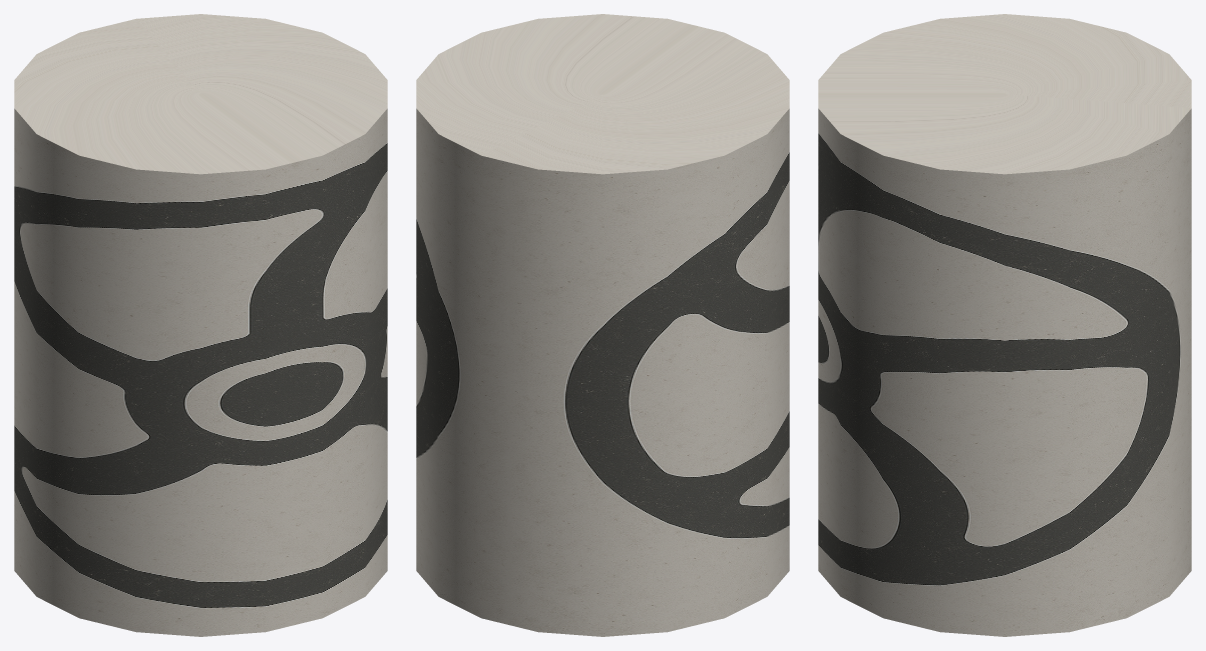
The model's file is kaitenyuka.fbx.
The picture shows the model from 3 angles, left to right: view 1: azimuth 30°, elevation 25°; view 2: azimuth 150°, elevation 25°; view 3: azimuth 270°, elevation 25°; orthographic projection.
Visible parts, largest first — view 1: Cylinder001; view 2: Cylinder001; view 3: Cylinder001.
Boxes of the visible parts, <box> form: Cylinder001: <box>14,14,387,636</box>; Cylinder001: <box>416,14,789,636</box>; Cylinder001: <box>818,14,1191,636</box>.
Bounding box in the file's own units: 2 × 2.69 × 1.97.
